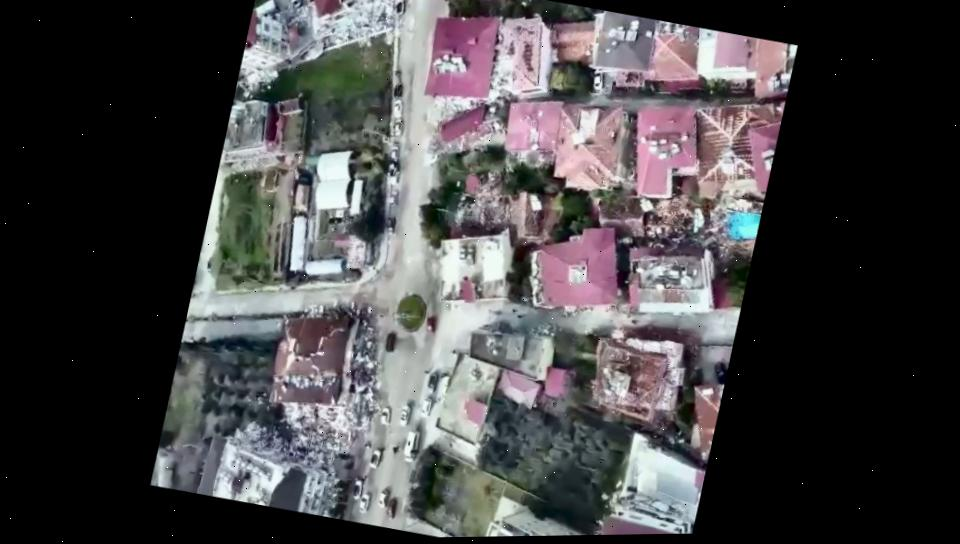kapali: (400, 0, 448, 24)
